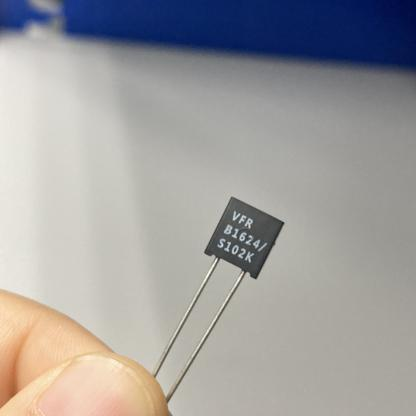SP0000008: (75, 157, 339, 415)
